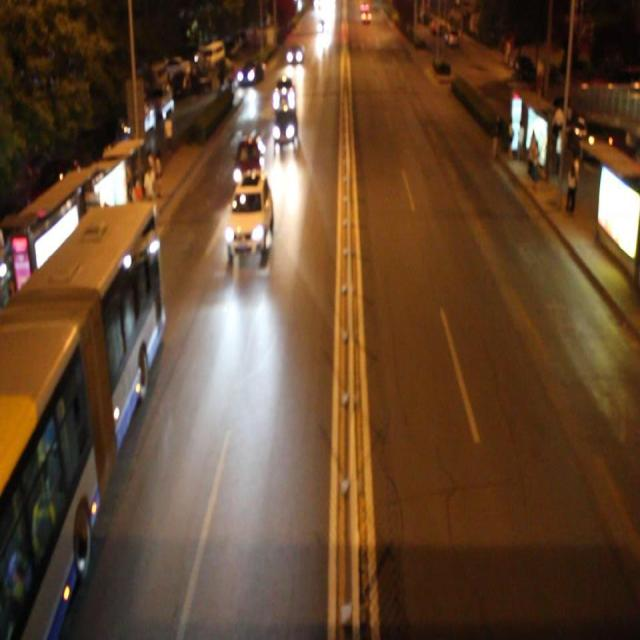car: (226, 172, 272, 255), (233, 133, 263, 187), (272, 106, 297, 145), (271, 76, 296, 111)
van: (1, 204, 158, 640)
